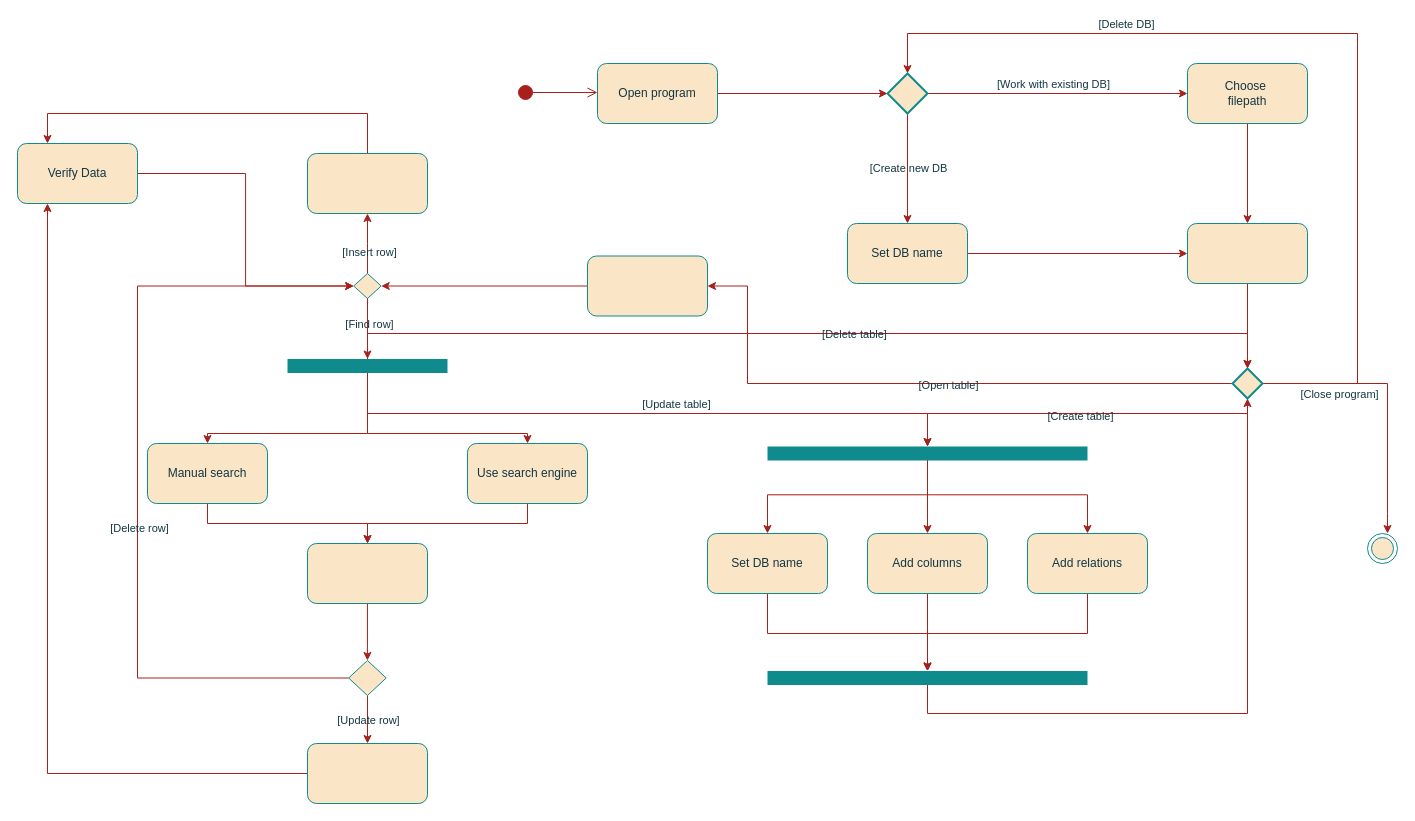
The diagram is 1415 pixels wide and 821 high, and some of its shapes have lost their labels. Each missing label, with the box of its shape:
Browse active DB: (1186, 222, 1308, 284)
Browse row: (306, 542, 428, 604)
Browse table: (586, 255, 708, 316)
Enter new data: (306, 152, 428, 214)
Update data: (306, 742, 428, 804)
